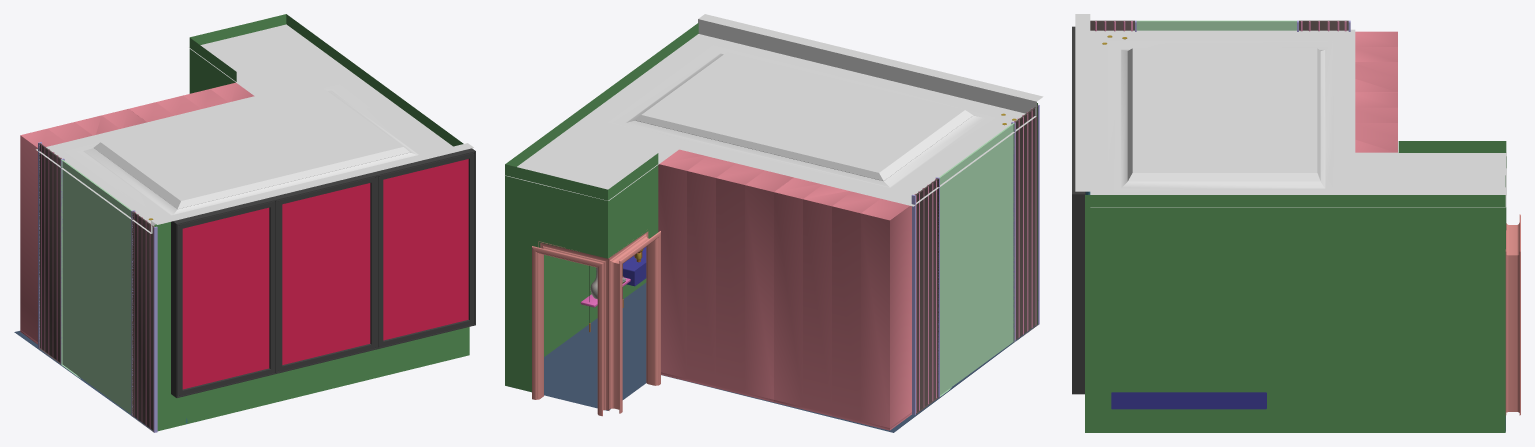
File: Bedroom4_V1.fbx
3 renders of one model, left to right at view 1: azimuth 30°, elevation 25°; view 2: azimuth 150°, elevation 25°; view 3: azimuth 270°, elevation 25°, orthographic. The views are drawn at different scales.
Parts seen in each view (by area): view 1: Walls, Window glass, Wall Back, Window Frame, Wardrobe; view 2: Walls, Wardrobe, Wall Back, Door Frame, Door Frame.001, TV Units; view 3: Walls, Wardrobe, Window Frame, Door Frame.001, Wall Back, TV Units.
Boxes of the visible parts, x1,y1,x2,y2 form: Walls: (14, 14, 473, 431); Window glass: (182, 159, 468, 389); Wall Back: (38, 142, 157, 432); Window Frame: (171, 148, 475, 397); Wardrobe: (20, 82, 254, 344); Walls: (504, 14, 1043, 432); Wardrobe: (658, 149, 911, 430); Wall Back: (911, 104, 1039, 414); Door Frame: (608, 231, 660, 413); Door Frame.001: (532, 241, 609, 416); TV Units: (623, 247, 646, 286); Walls: (1075, 14, 1506, 432); Wardrobe: (1355, 31, 1397, 152); Window Frame: (1072, 26, 1084, 394); Door Frame.001: (1505, 214, 1520, 415); Wall Back: (1085, 20, 1350, 194); TV Units: (1111, 392, 1266, 409).
Bounding box in the file's own units: 488 × 309 × 518.
